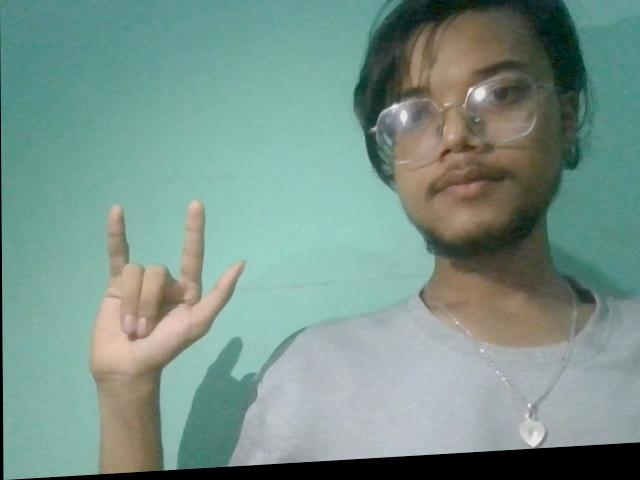I Love You: (83, 192, 259, 399)
